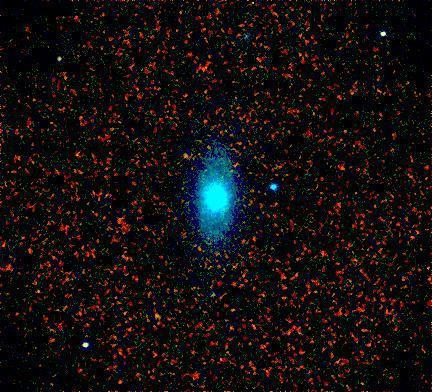star: (170, 141, 200, 171)
